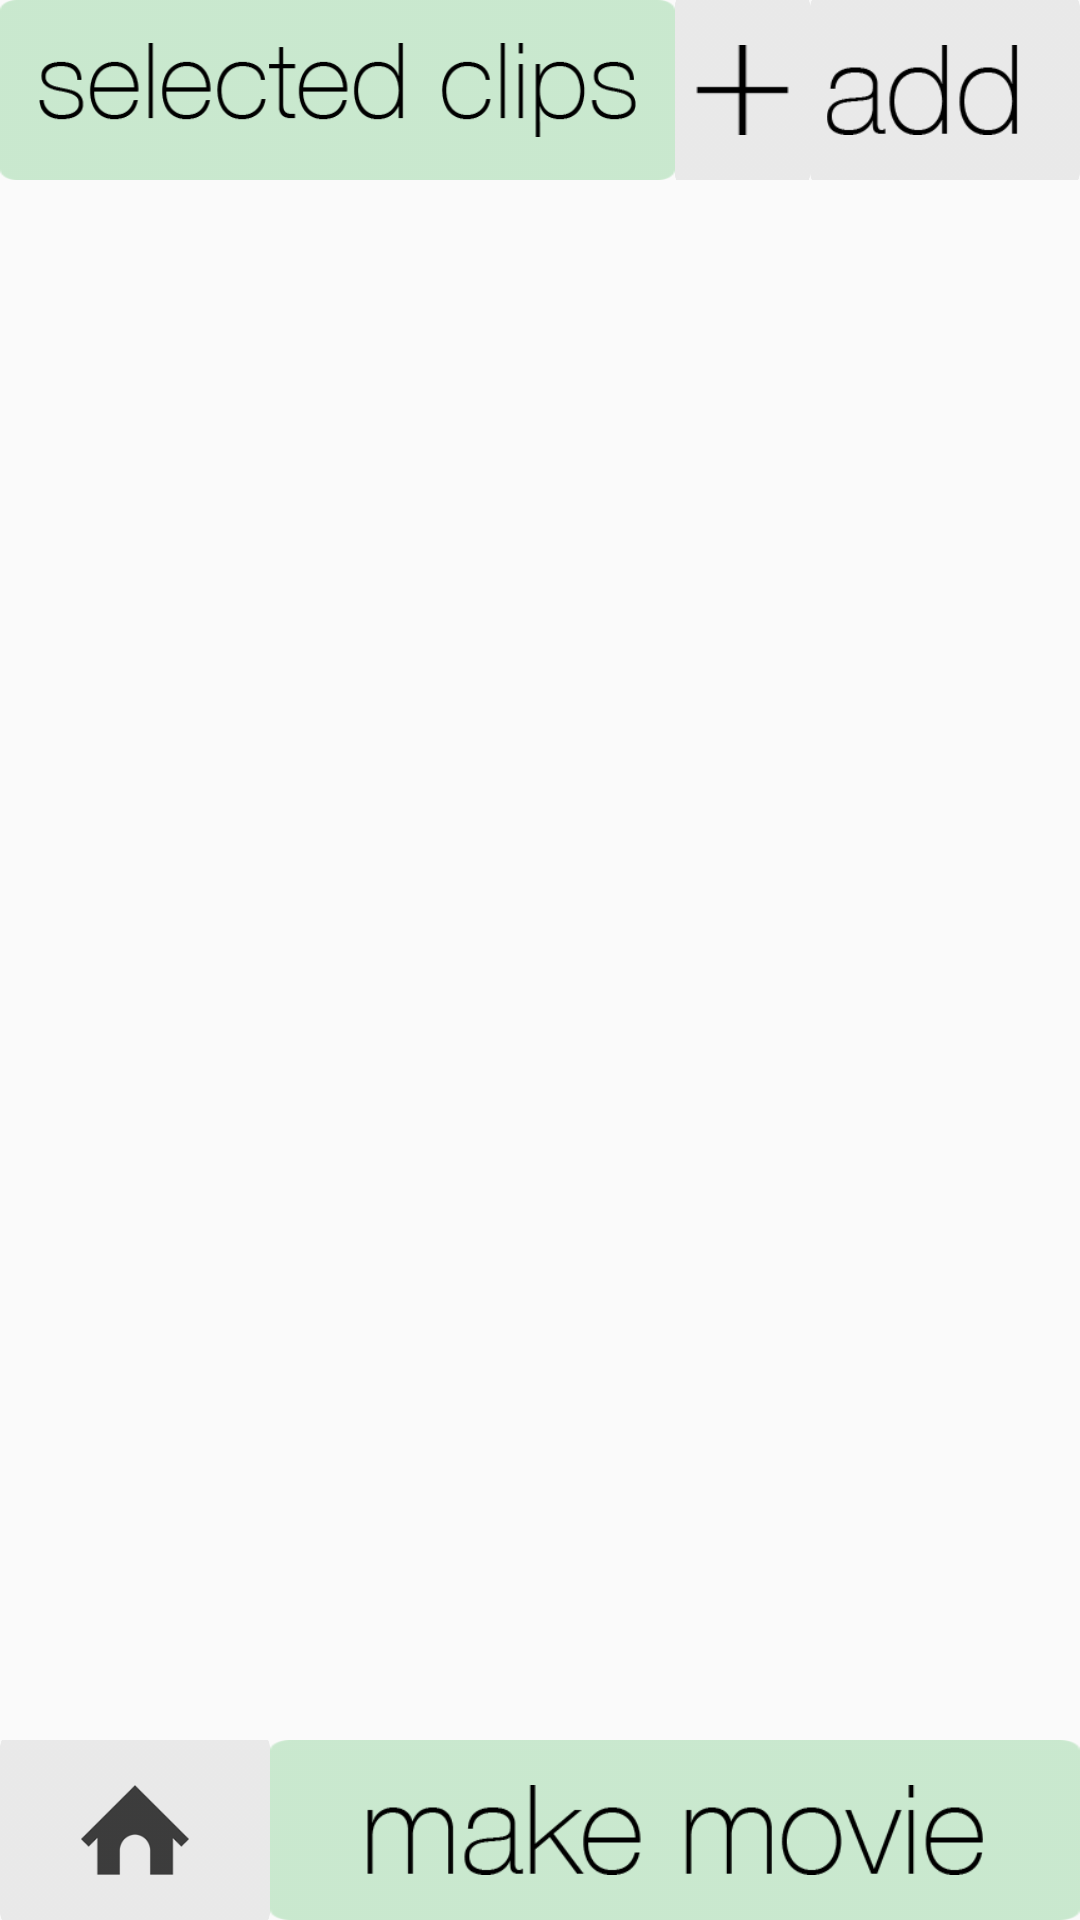

Screen size 1080w x 1920h. Icon name, then its center in pixels as [x,y]:
home: [135,1830]
plus: [742,90]
